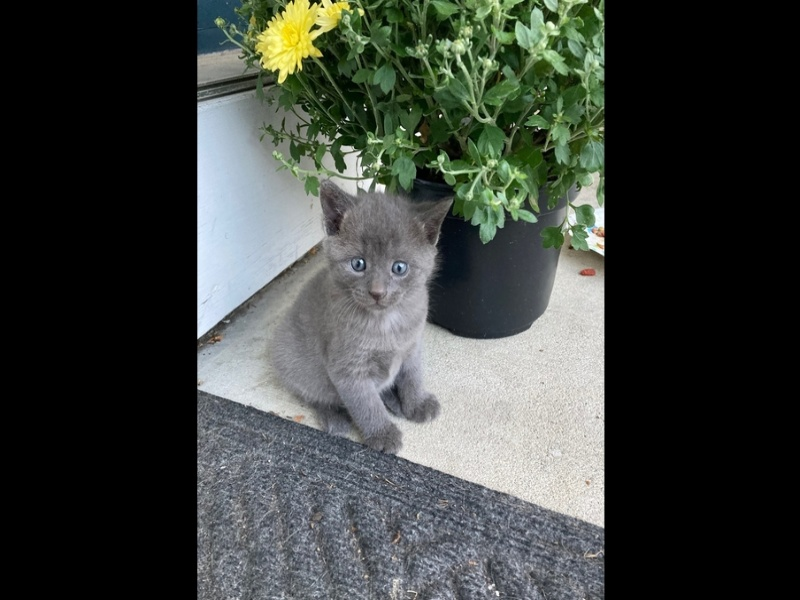cat: (264, 179, 464, 456)
